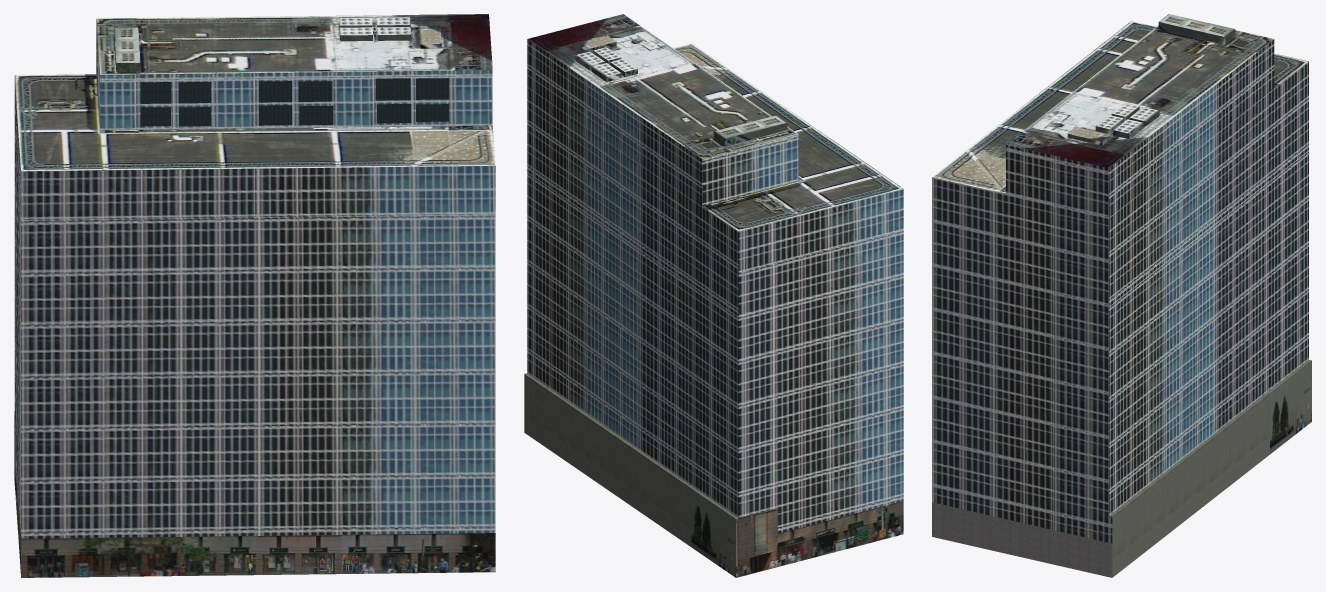
Rendered from Home Box Office Headquarters.fbx.
3 renders of one model, left to right at view 1: azimuth 30°, elevation 25°; view 2: azimuth 150°, elevation 25°; view 3: azimuth 270°, elevation 25°, orthographic. The views are drawn at different scales.
Visible parts, largest first — view 1: Model; view 2: Model; view 3: Model.
Boxes of the visible parts, bbox=[...] form: Model: bbox=[14, 14, 495, 577]; Model: bbox=[524, 14, 903, 577]; Model: bbox=[932, 14, 1311, 577].
Bounding box in the file's own units: 2786 × 2745 × 2266.
